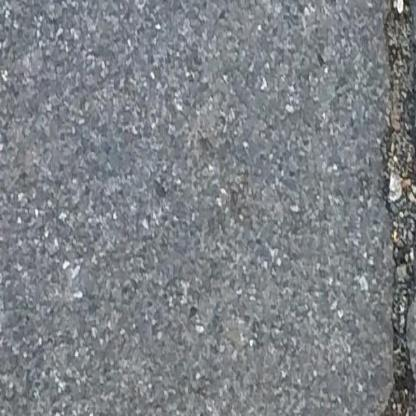Cracks: (372, 0, 416, 416)
